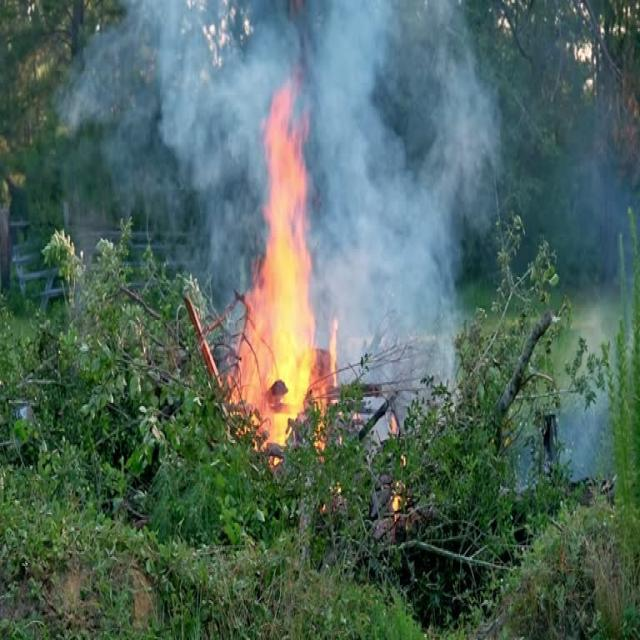fire: (235, 401, 293, 472), (274, 321, 314, 422), (263, 140, 308, 229), (235, 307, 273, 406), (265, 218, 311, 282), (273, 282, 316, 348), (260, 79, 294, 147), (244, 253, 274, 309), (307, 348, 330, 417)
